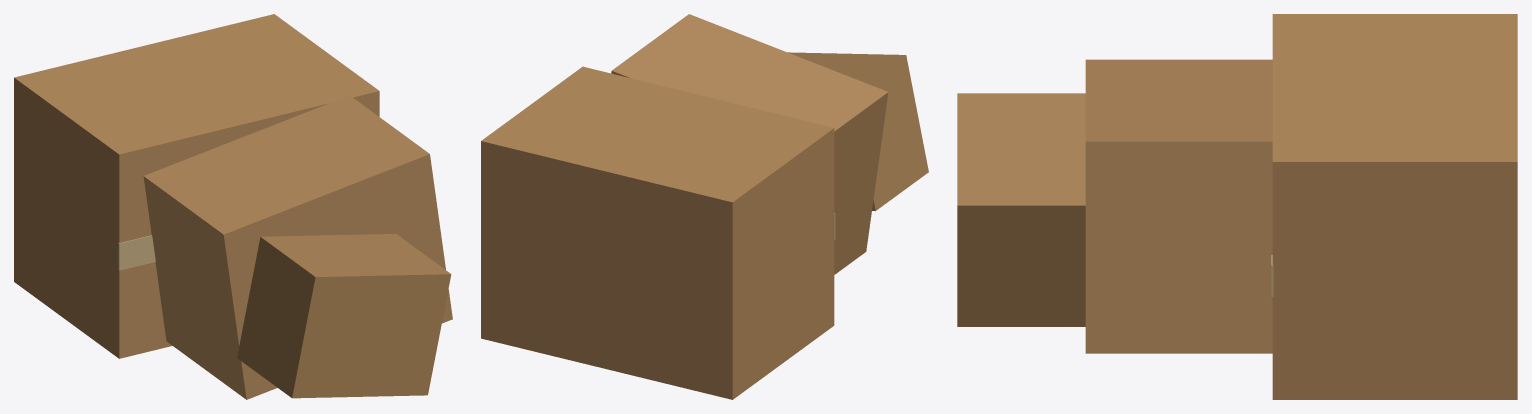
The picture shows the model from 3 angles, left to right: view 1: azimuth 30°, elevation 25°; view 2: azimuth 150°, elevation 25°; view 3: azimuth 270°, elevation 25°; orthographic projection. The views are drawn at different scales.
Parts seen in each view (by area): view 1: part_3, part_1, part_0, part_2; view 2: part_3, part_1, part_0; view 3: part_3, part_1, part_0.
Part boxes in pixels (box(x1,y1,x2,y2)): part_3: box(14, 14, 379, 358); part_1: box(143, 95, 452, 399); part_0: box(237, 234, 451, 398); part_2: box(118, 235, 155, 270); part_3: box(481, 66, 834, 399); part_1: box(611, 14, 888, 274); part_0: box(788, 52, 928, 211); part_3: box(1272, 14, 1517, 399); part_1: box(1085, 59, 1272, 353); part_0: box(957, 93, 1085, 326).
Size of the model in its own units: 0.602 by 0.4566 by 0.96.
